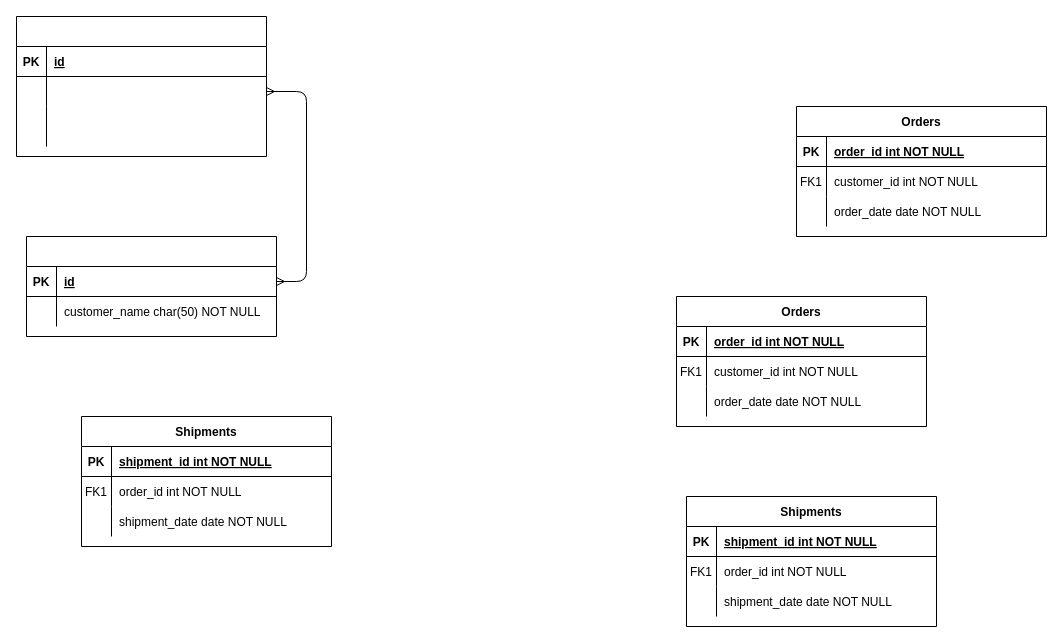
This 1063x643 diagram has some shape labels left out. Here are the shapes that lost their labels. From the top down, the box of each, then its label:
(16, 16, 266, 156): Roles
(26, 236, 276, 336): Users
